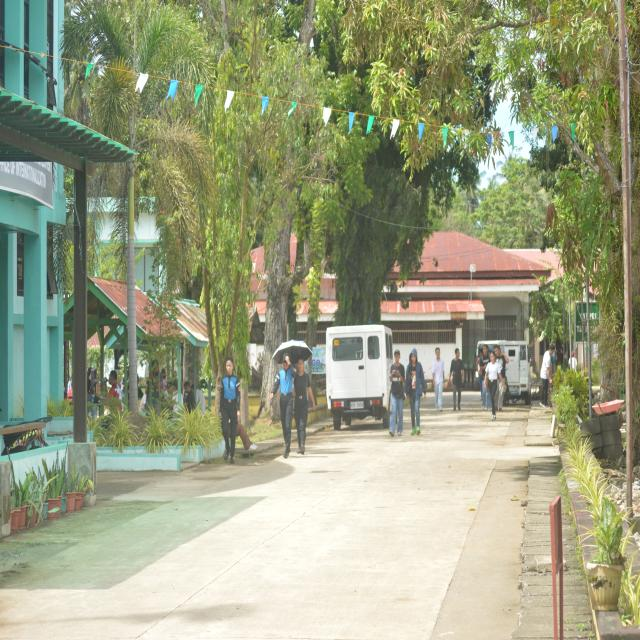person: (270, 355, 293, 458), (219, 357, 240, 463), (294, 358, 315, 454), (406, 348, 426, 434), (390, 350, 405, 435), (485, 352, 504, 419), (495, 346, 509, 411), (450, 349, 464, 410), (541, 344, 554, 408), (478, 345, 490, 410), (432, 348, 444, 411), (184, 382, 197, 411)
